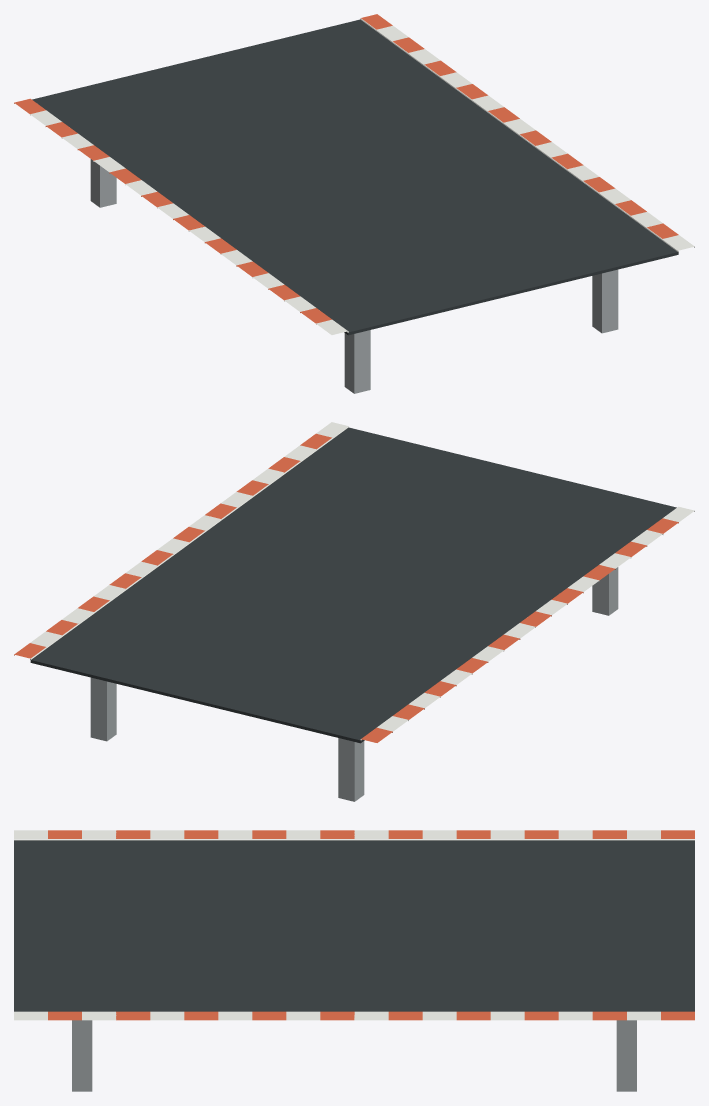
The model's file is grand-prix-circuit-and-open-wheel-bridge-straight-26de6ad6__15193.glb.
The picture shows the model from 3 angles, top to bottom: view 1: azimuth 30°, elevation 25°; view 2: azimuth 150°, elevation 25°; view 3: azimuth 270°, elevation 25°; orthographic projection. The views are drawn at different scales.
Parts seen in each view (by area): view 1: bridge-straight; view 2: bridge-straight; view 3: bridge-straight.
Boxes of the visible parts, bbox=[...] form: bridge-straight: bbox=[14, 14, 694, 393]; bridge-straight: bbox=[14, 422, 694, 801]; bridge-straight: bbox=[14, 830, 694, 1091].
Size of the model in its own units: 13.2 by 3.14 by 20.
